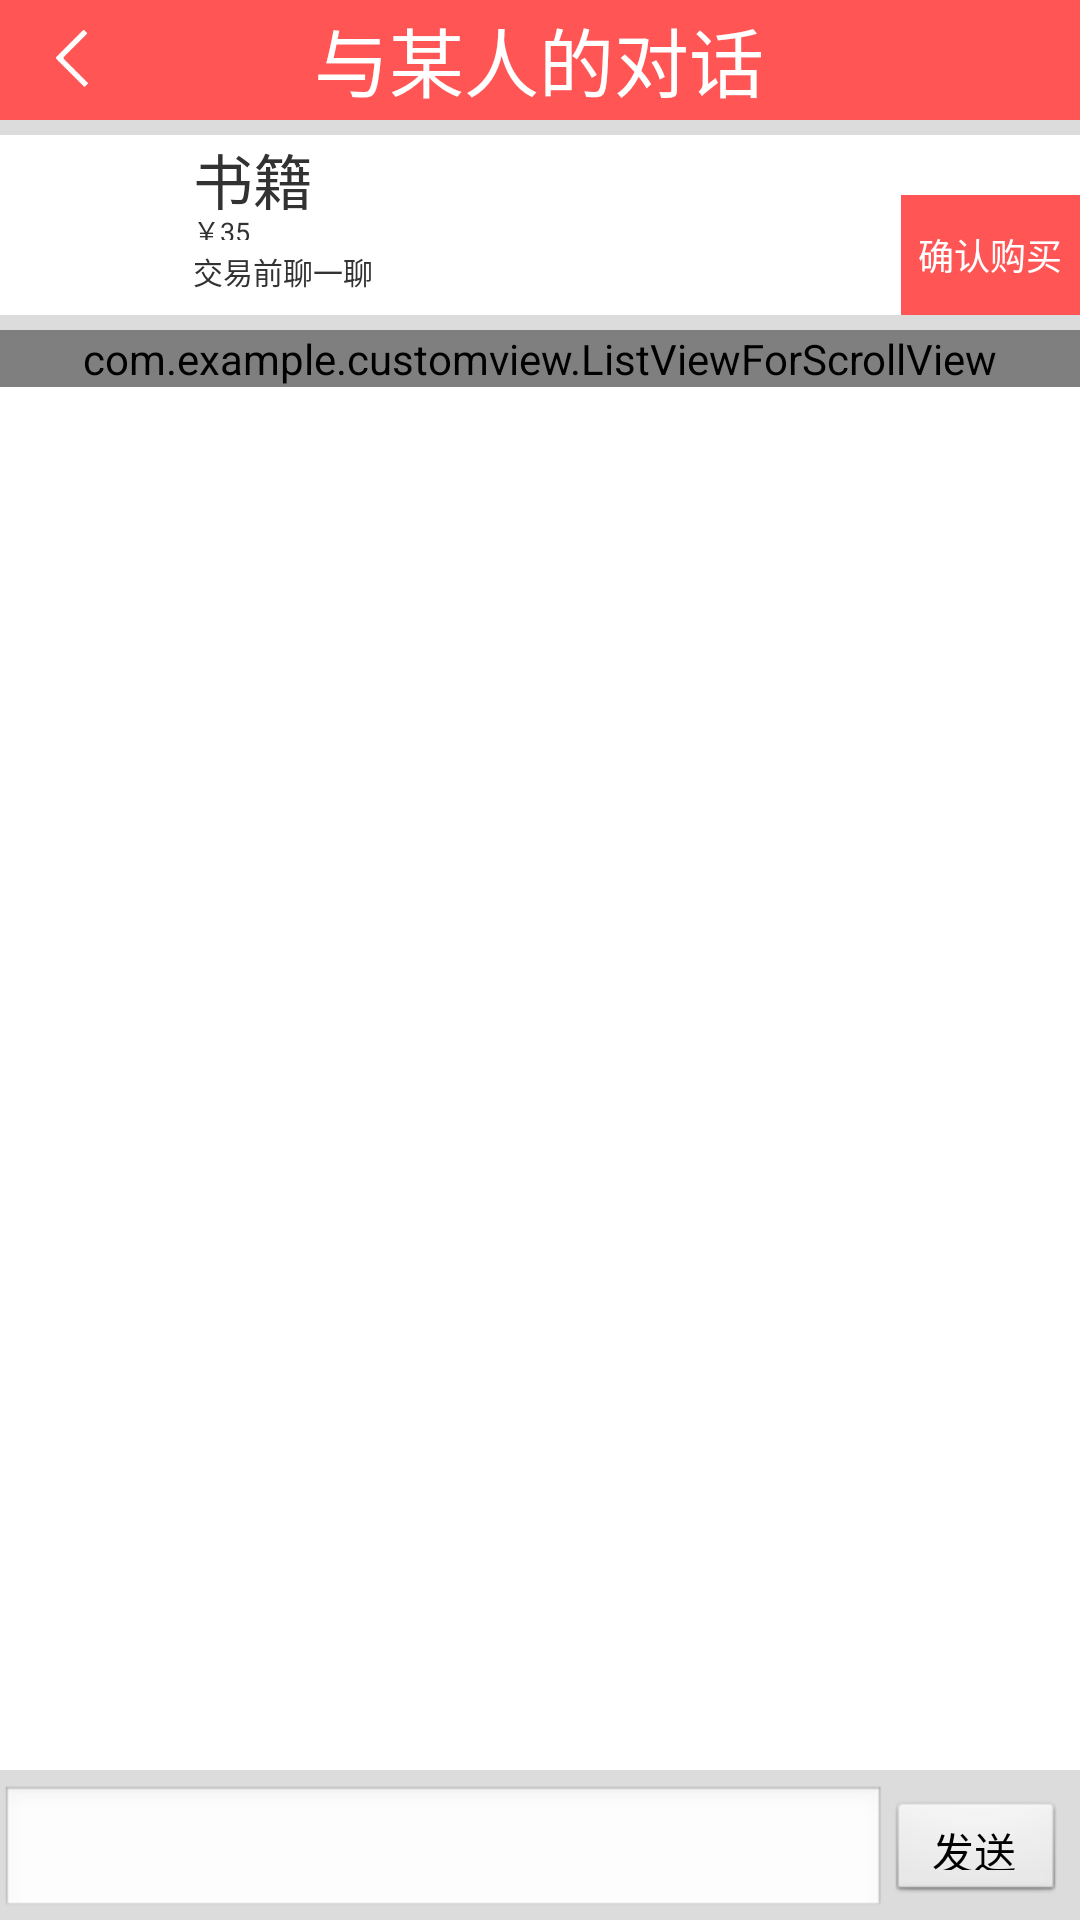

Icons on this 1080w x 1920h Android screen, each with its box as bbox=[x1, y1, x2, y2]:
jiantou left: bbox=[56, 30, 88, 87]
